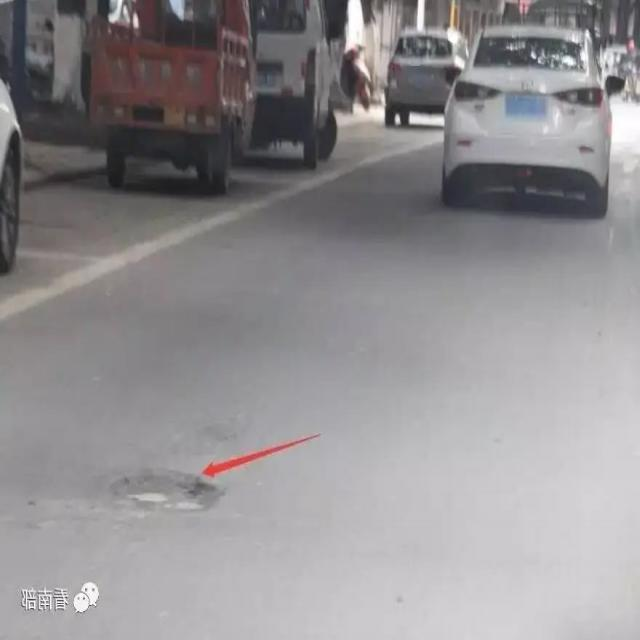pothole: (109, 476, 221, 528)
